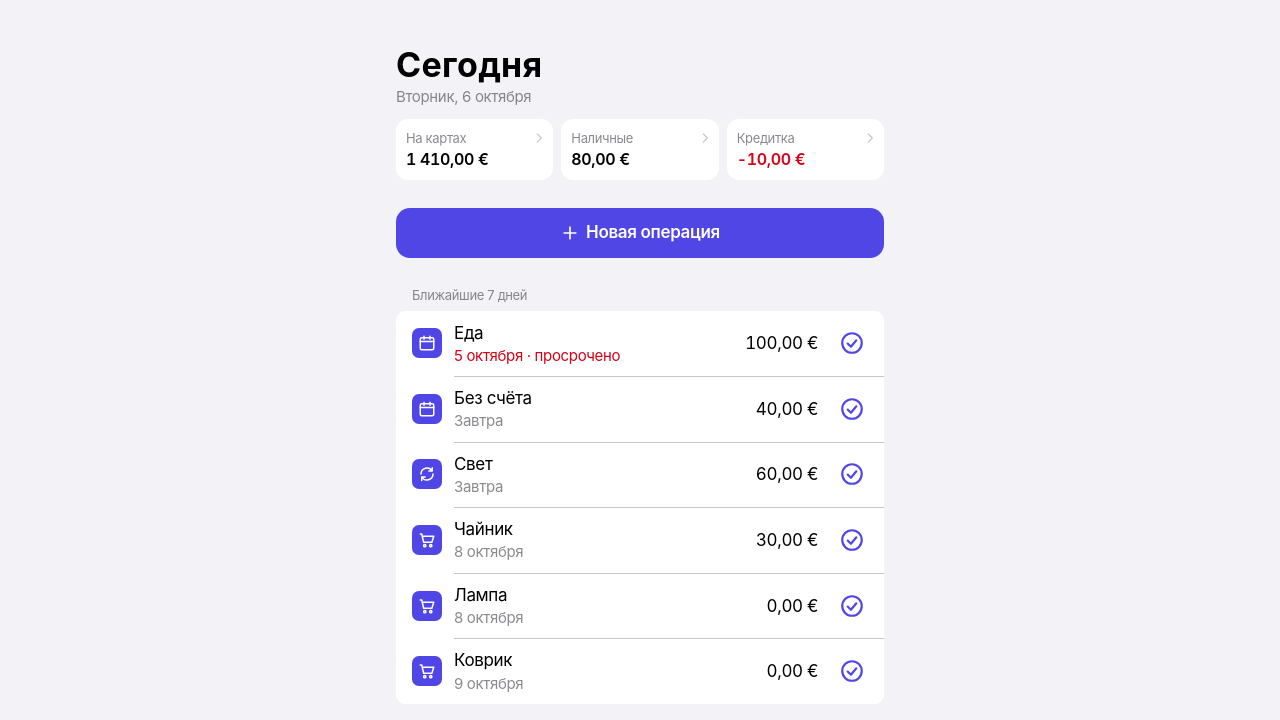
Test: Today — the next 7 days › a record that lacks what paying needs: ✓ opens its card instead of paying › a purchase without an account
This screenshot has width=1280, height=720.
Click the button named "Отметить покупку: Чайник": (852, 540) top-left (830, 518), bottom-right (874, 562)
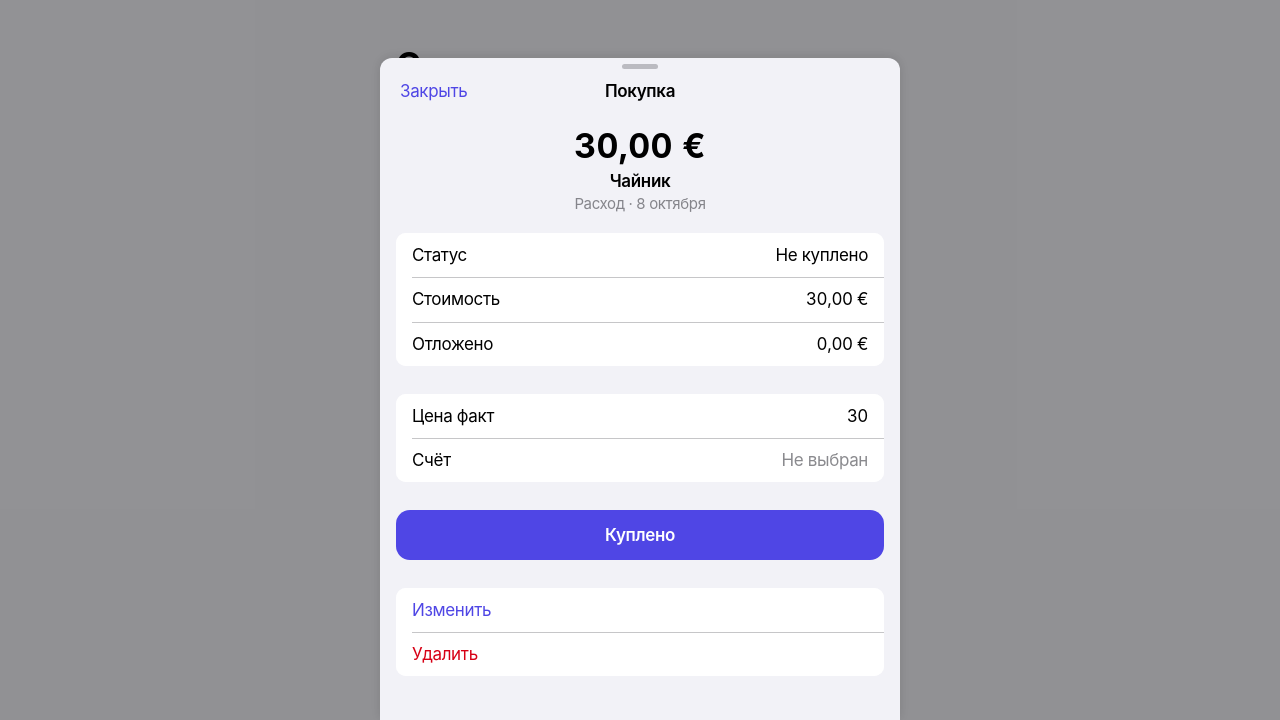
Result: the dialog "Покупка" is shown at top-left (380, 58), bottom-right (900, 719)
